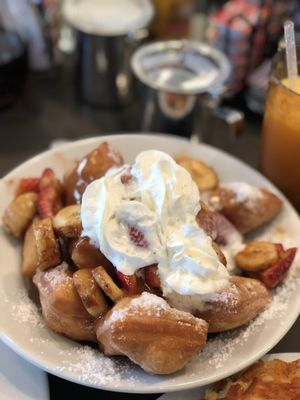pizza: (130, 38, 232, 138), (258, 21, 300, 216)
